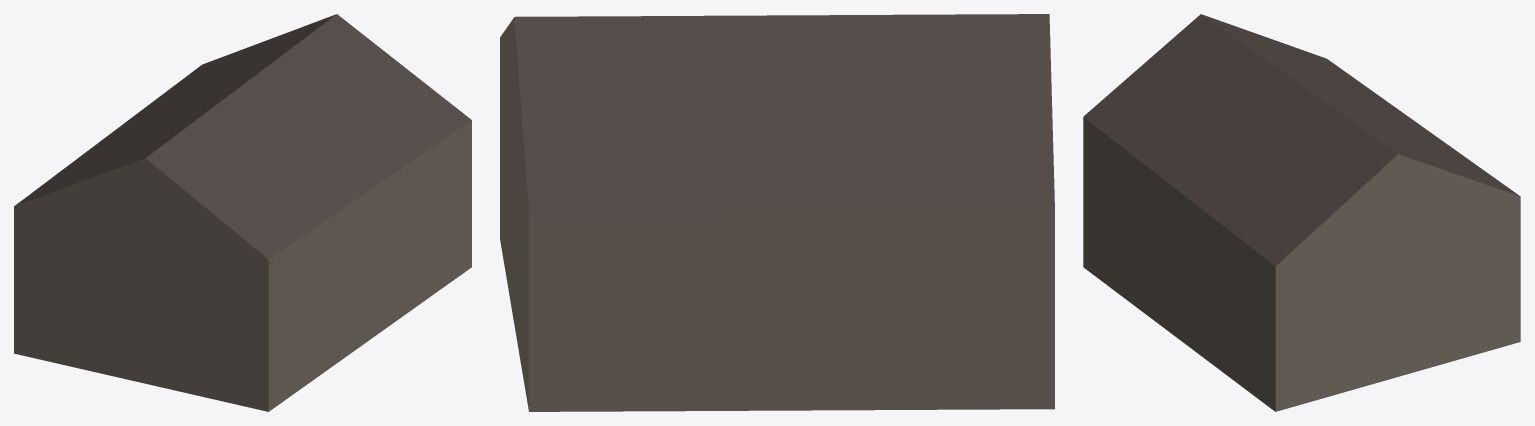
3 views of the same model, side by side, from view 1: azimuth 30°, elevation 25°; view 2: azimuth 150°, elevation 25°; view 3: azimuth 270°, elevation 25° (orthographic). The views are drawn at different scales.
Parts seen in each view (by area): view 1: HP-w1516161933; view 2: HP-w1516161933; view 3: HP-w1516161933.
Part boxes in pixels (x1,y1,x2,y2): HP-w1516161933: [14, 14, 471, 411]; HP-w1516161933: [500, 14, 1054, 411]; HP-w1516161933: [1083, 14, 1520, 411].
Size of the model in its own units: 27.6 by 13.79 by 24.55.
